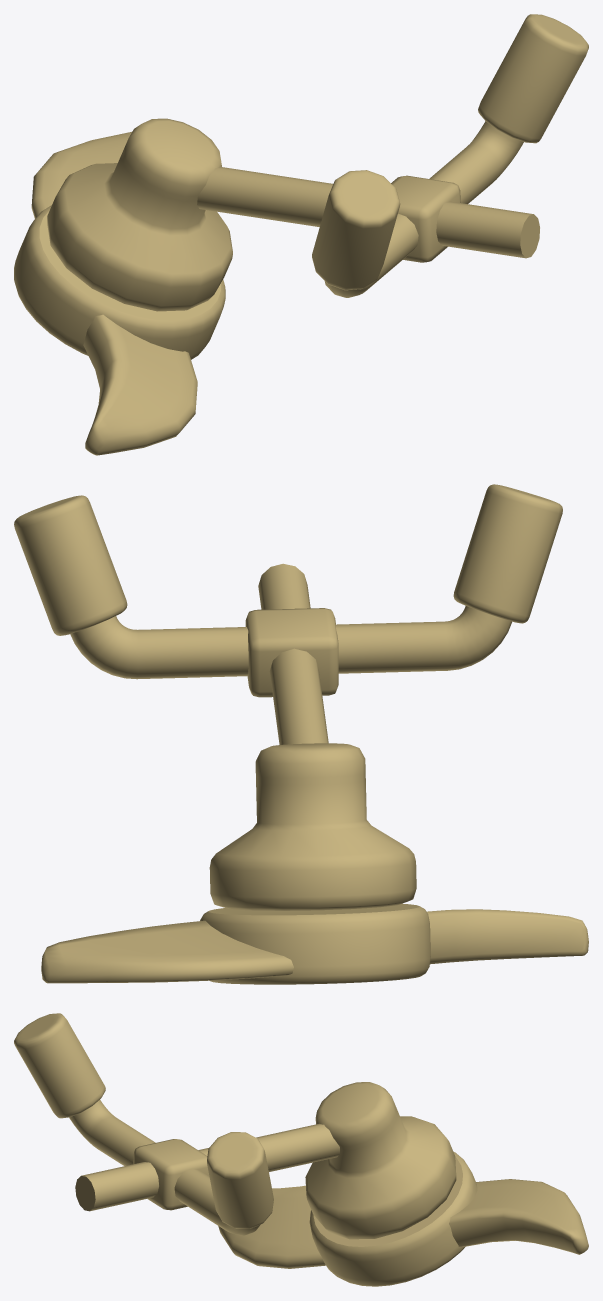
The model's file is BrushCutter-Shadow.fbx.
3 views of the same model, one above another, from view 1: azimuth 30°, elevation 25°; view 2: azimuth 150°, elevation 25°; view 3: azimuth 270°, elevation 25° (orthographic). The views are drawn at different scales.
Visible parts, largest first — view 1: BrushCutter-Shadow, CutterBlade; view 2: BrushCutter-Shadow, CutterBlade; view 3: BrushCutter-Shadow, CutterBlade.
Boxes of the visible parts, x1,y1,x2,y2 form: BrushCutter-Shadow: (47,14,588,311); CutterBlade: (14,132,225,455); BrushCutter-Shadow: (14,484,562,910); CutterBlade: (41,903,588,984); BrushCutter-Shadow: (14,1013,456,1239); CutterBlade: (218,1151,588,1286).
Bounding box in the file's own units: 14.66 × 9 × 17.63.
